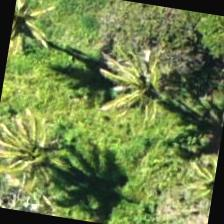Kelapa_Sawit: (0, 105, 81, 208)
